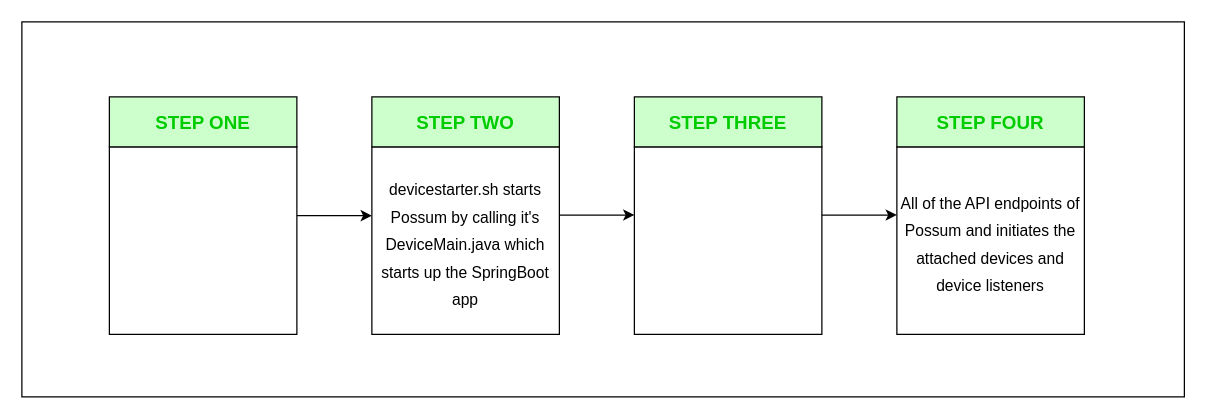
Image size: 1206x419. Some labels were removed from this diagram. The shapes that lost their labels are listed below. From the top down, each one's centre as x and y in pixels, then its label:
point 202,240: devicestarter.sh defines device specific classpaths and libraries
point 727,240: Possum exposes the device JPOS profiles via the devcon.xml file
